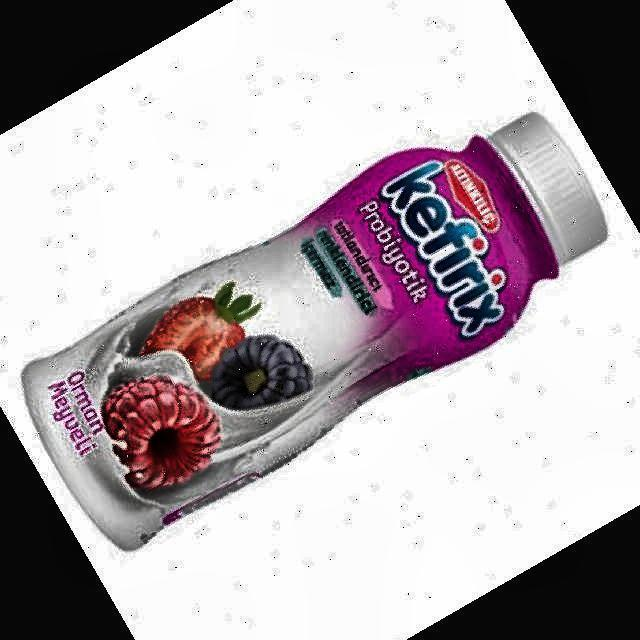plastic: (22, 114, 606, 549)
